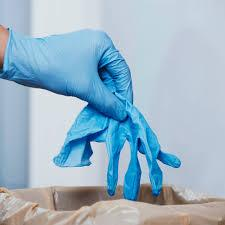Glove: (54, 94, 180, 199), (0, 29, 132, 119)
